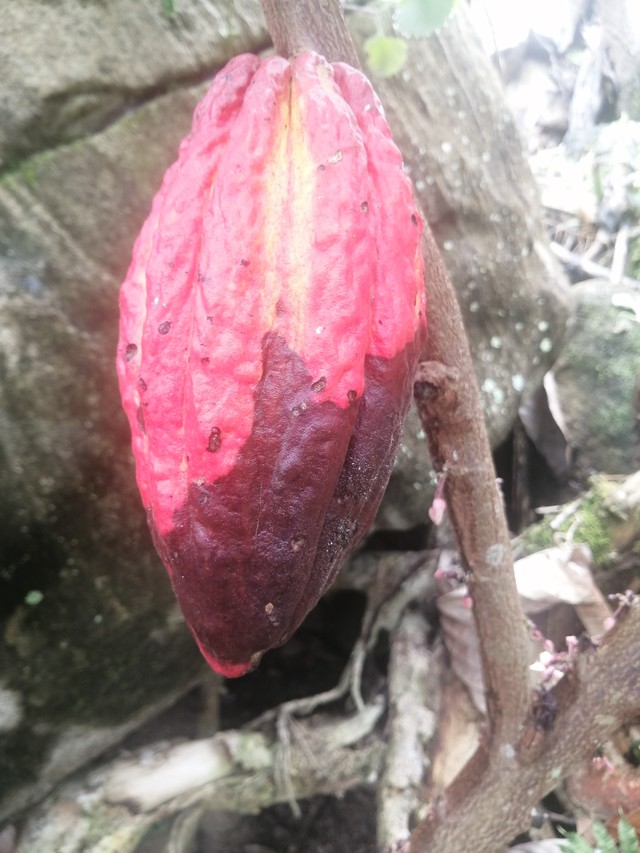phytophthora palmivora: (98, 40, 446, 689)
